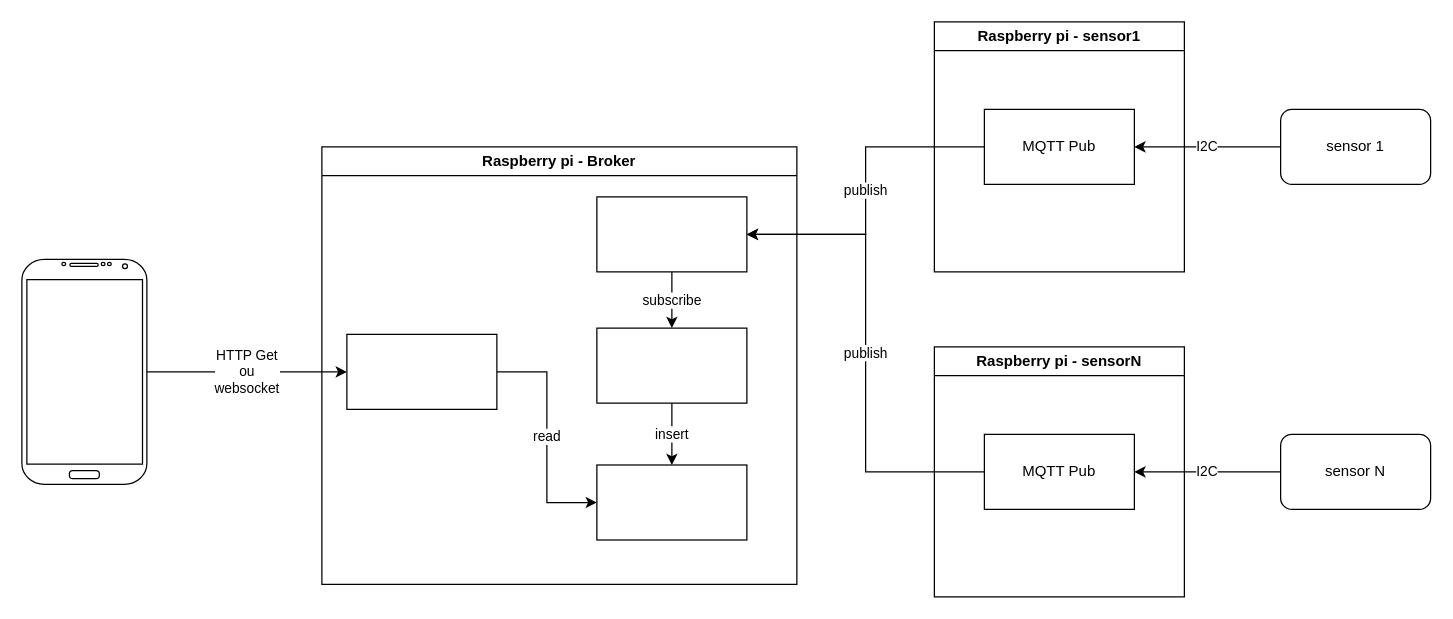
Image size: 1453x619. Some labels were removed from this diagram. Each missing label, with the centre of its shape:
"API" belongs at point (421, 371).
"DB" belongs at point (671, 502).
"MQTT Broker" belongs at point (671, 234).
"MQTT Sub" belongs at point (671, 365).
